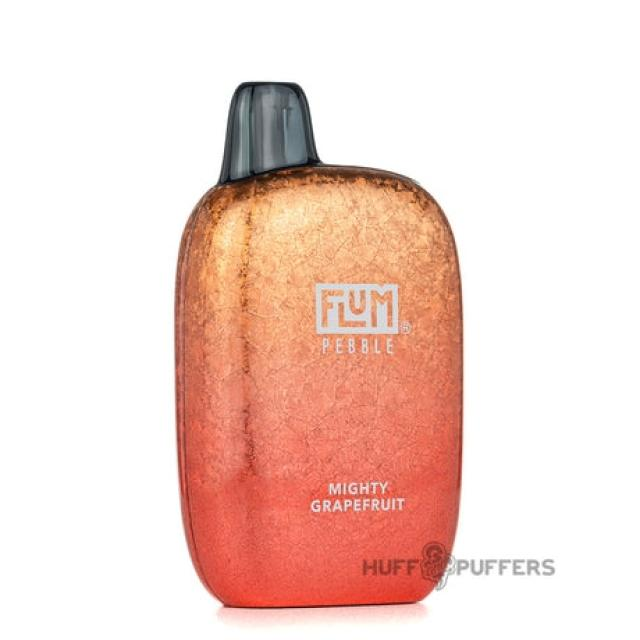Vapes: (171, 79, 465, 608)
